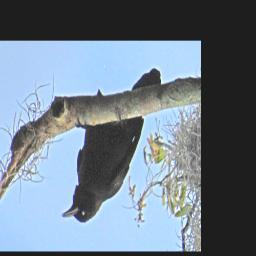Crow: (62, 67, 162, 222)
